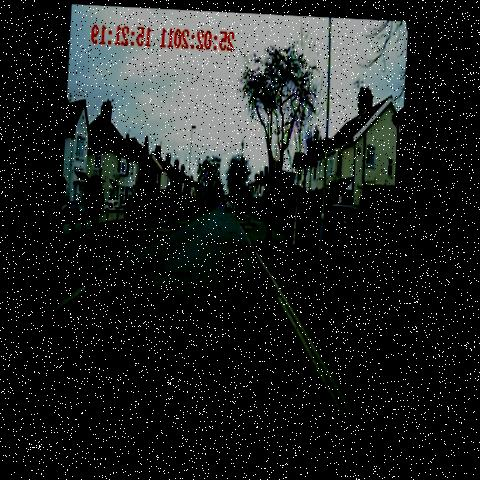pothole: (188, 271, 214, 305), (235, 246, 255, 277), (156, 323, 179, 343), (228, 222, 243, 239), (203, 232, 221, 245), (218, 212, 227, 232)
